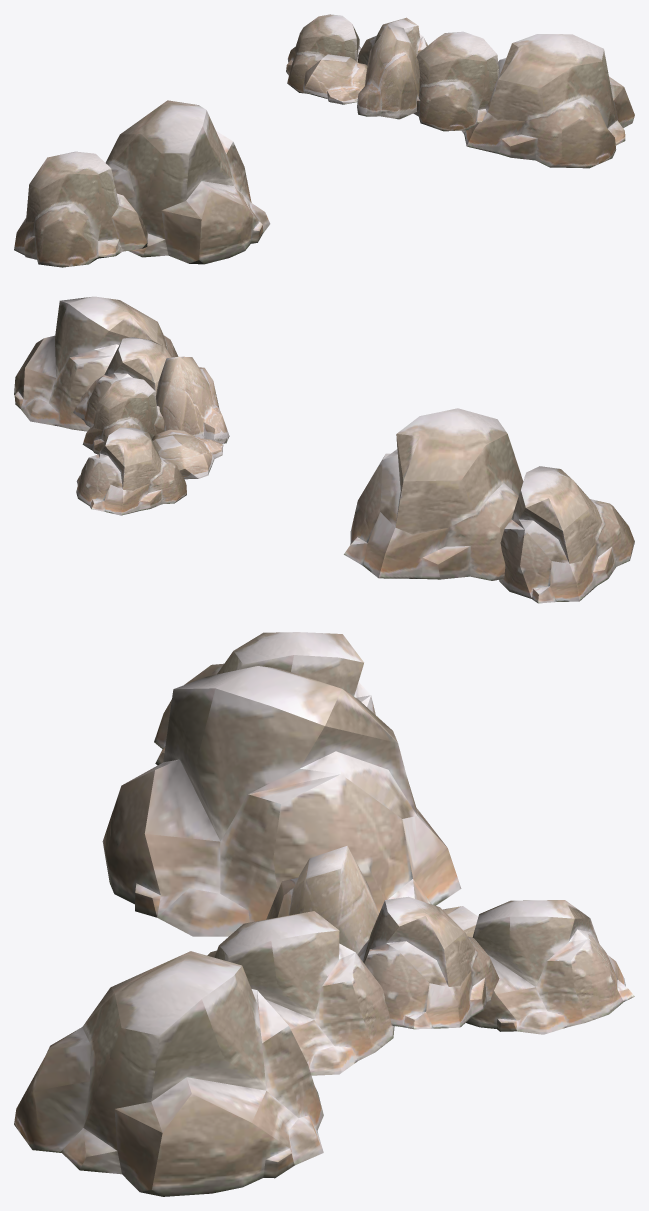
File: pref_sm_beach_bk_winter_pointmol_rock_R01_lv1.fbx
The picture shows the model from 3 angles, top to bottom: view 1: azimuth 30°, elevation 25°; view 2: azimuth 150°, elevation 25°; view 3: azimuth 270°, elevation 25°; orthographic projection. The views are drawn at different scales.
Visible parts, largest first — view 1: pref_sm_beach_bk_winter_pointmol_rock_R01_lv1; view 2: pref_sm_beach_bk_winter_pointmol_rock_R01_lv1; view 3: pref_sm_beach_bk_winter_pointmol_rock_R01_lv1.
Boxes of the visible parts, box(x1,y1,x2,y2) form: pref_sm_beach_bk_winter_pointmol_rock_R01_lv1: box(14, 14, 634, 267); pref_sm_beach_bk_winter_pointmol_rock_R01_lv1: box(14, 296, 634, 603); pref_sm_beach_bk_winter_pointmol_rock_R01_lv1: box(14, 632, 634, 1196).
Bounding box in the file's own units: 21.11 × 4.8 × 10.98.
1 material, 1 textured.
